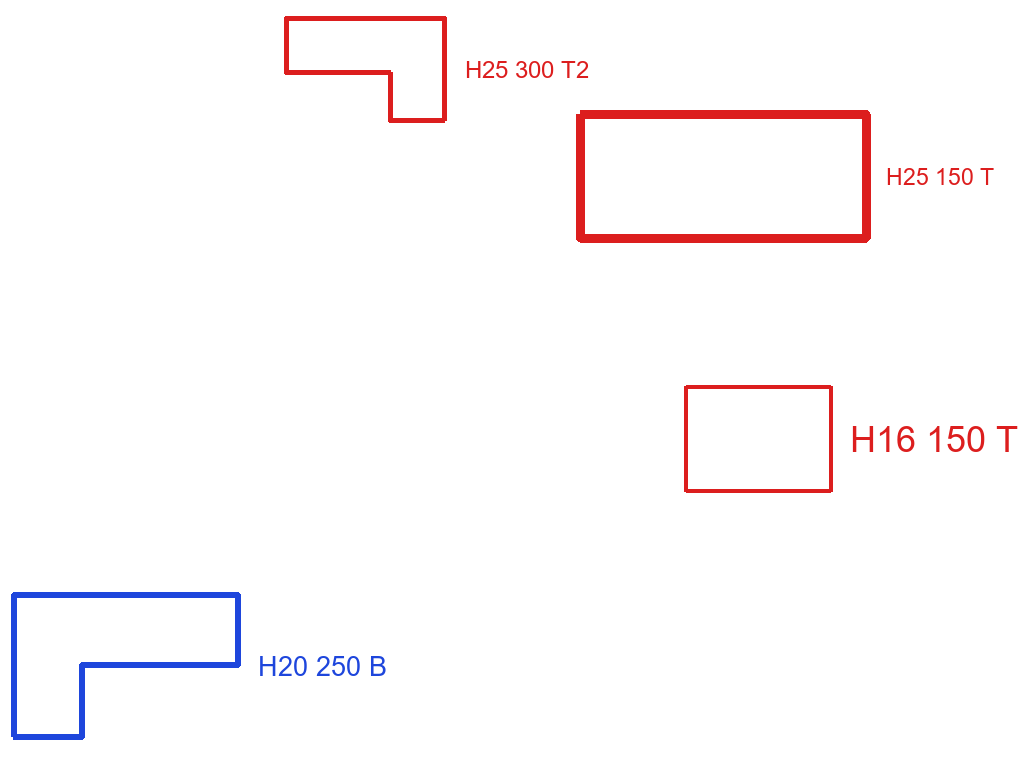shape: (574, 108, 873, 245), (9, 591, 243, 741), (282, 14, 449, 125), (682, 383, 834, 495)
text: (848, 424, 1020, 454), (256, 654, 389, 678), (463, 59, 591, 80), (884, 166, 996, 187)
